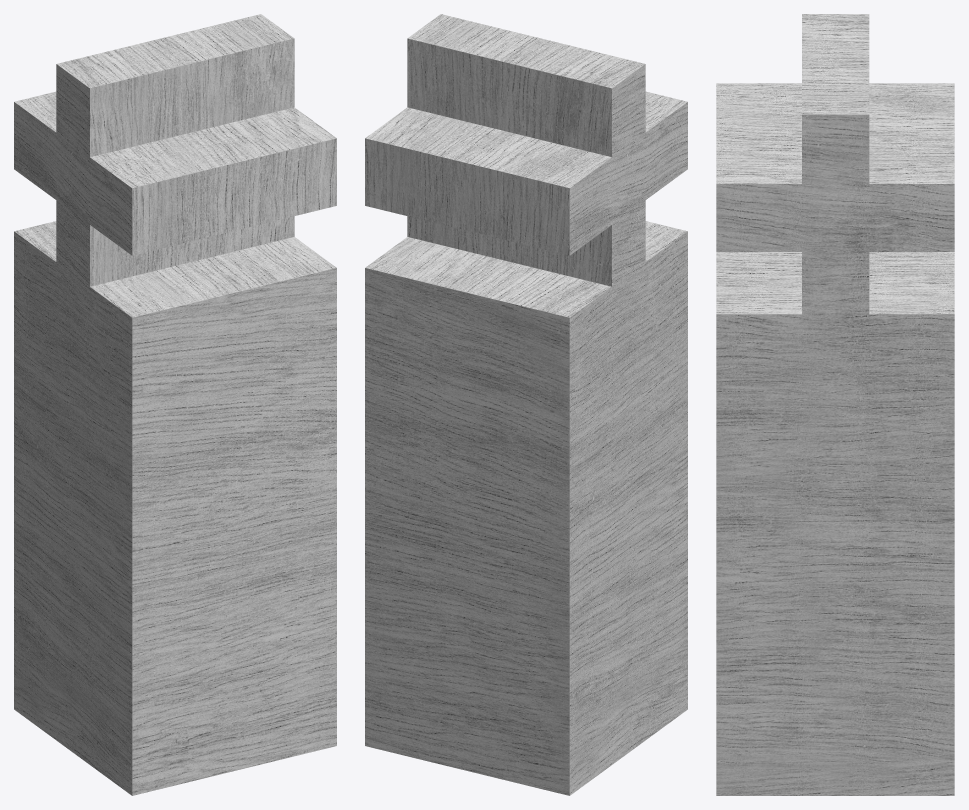
File: king.obj
3 renders of one model, left to right at view 1: azimuth 30°, elevation 25°; view 2: azimuth 150°, elevation 25°; view 3: azimuth 270°, elevation 25°, orthographic.
Visible parts, largest first — view 1: king; view 2: king; view 3: king.
Boxes of the visible parts, x1,y1,x2,y2 form: king: [14, 14, 336, 795]; king: [365, 14, 687, 795]; king: [716, 14, 954, 795].
Size of the model in its own units: 1.26 by 3.99 by 1.26.
